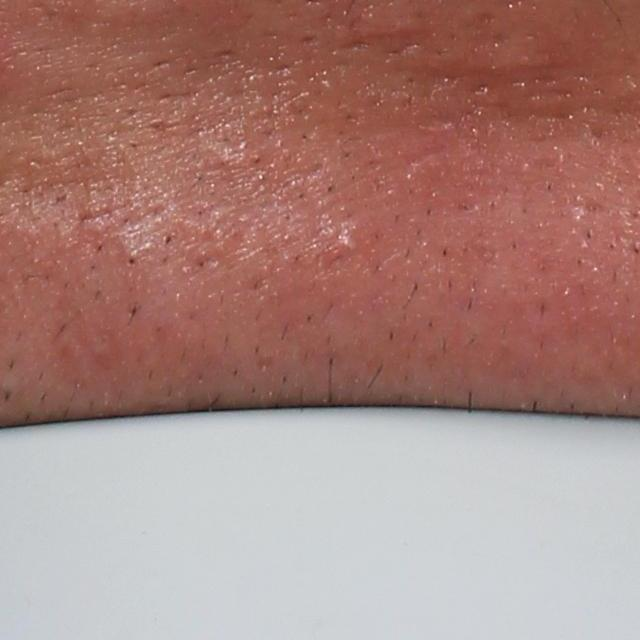comedo: (338, 231, 362, 254)
